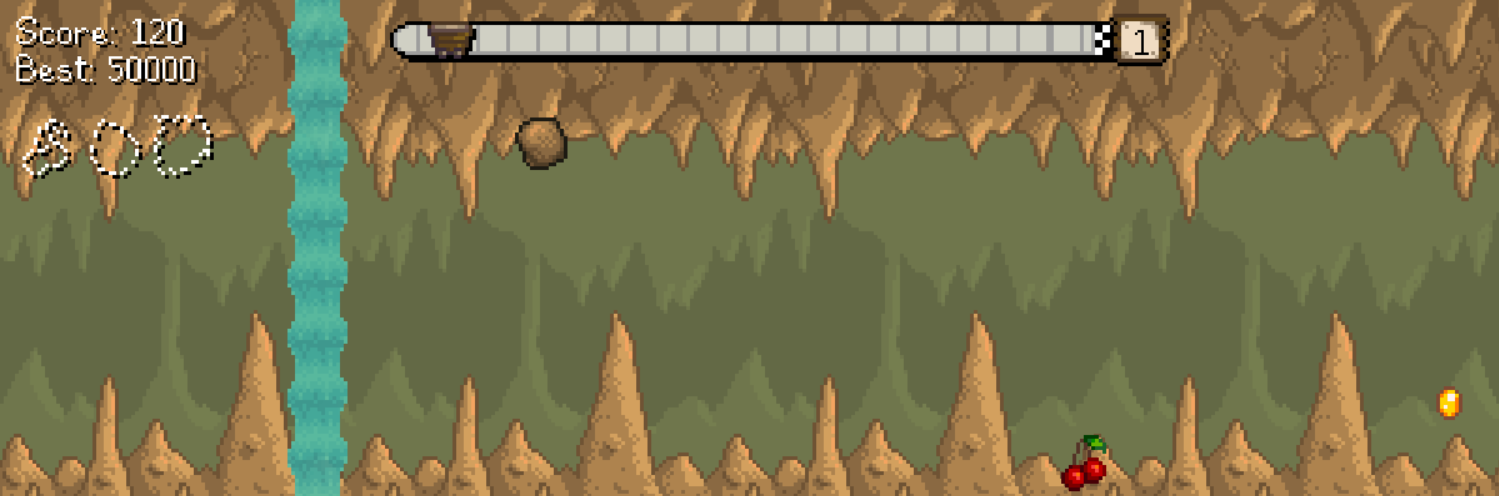boulder: (517, 118, 566, 168)
cherry: (1052, 424, 1108, 492)
coins: (1437, 388, 1462, 418)
score: (126, 15, 190, 50)
